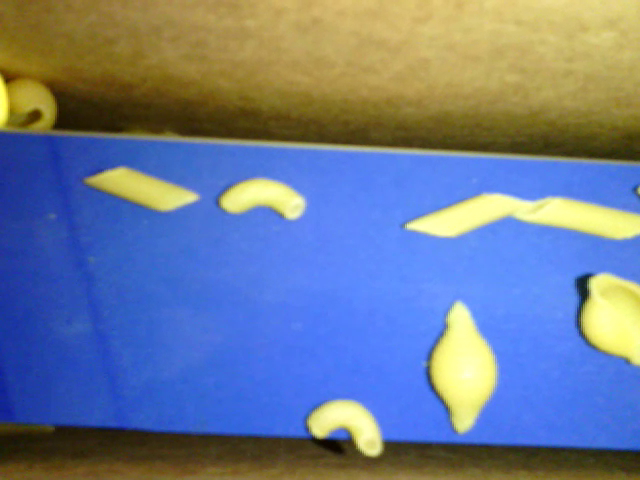elbow: (303, 396, 384, 460), (215, 177, 306, 222)
penne: (401, 187, 534, 242), (83, 162, 202, 215), (517, 194, 639, 242)
shell: (421, 295, 501, 436), (568, 268, 638, 366), (5, 76, 62, 136)
